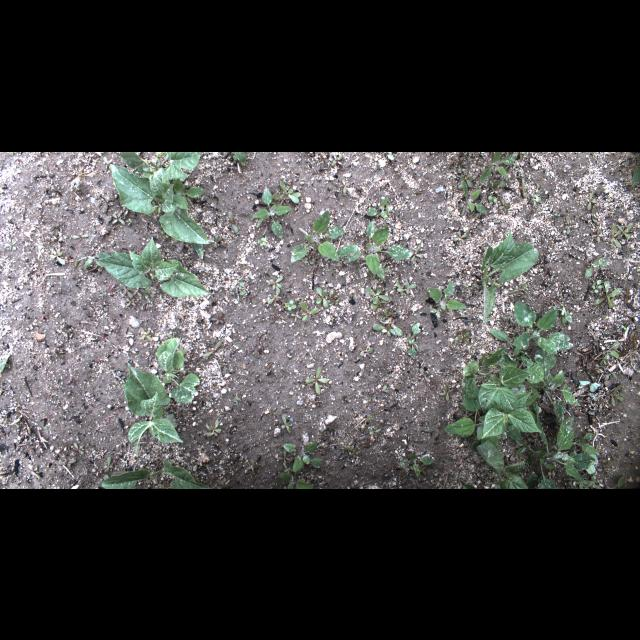crop: (109, 162, 209, 244), (506, 402, 600, 488), (462, 346, 542, 438), (98, 234, 212, 296), (465, 230, 539, 322), (125, 364, 183, 458), (102, 460, 212, 488), (156, 336, 200, 404), (476, 440, 528, 488), (120, 152, 200, 180), (235, 151, 248, 163), (463, 484, 477, 488)
weed: (444, 371, 508, 451), (334, 220, 412, 280), (522, 349, 580, 423), (512, 301, 574, 354), (290, 210, 346, 262), (254, 188, 292, 238), (366, 286, 402, 336), (488, 328, 532, 364), (426, 283, 466, 321), (283, 442, 323, 472), (478, 152, 516, 182), (398, 452, 434, 476), (462, 180, 486, 216), (593, 280, 623, 308), (173, 176, 204, 198), (304, 366, 328, 394), (582, 255, 610, 278), (274, 180, 300, 204), (366, 196, 394, 218), (280, 472, 314, 488), (599, 339, 619, 365), (315, 287, 339, 307), (569, 474, 601, 488), (603, 223, 621, 247), (408, 322, 420, 356), (299, 301, 319, 321), (229, 277, 247, 299), (508, 279, 530, 295), (202, 341, 222, 357), (486, 178, 506, 194), (610, 384, 624, 406), (49, 246, 66, 264), (556, 306, 572, 324), (396, 281, 416, 295), (205, 420, 221, 436), (280, 414, 292, 434), (0, 353, 12, 373), (585, 189, 597, 209), (604, 475, 624, 487), (276, 449, 290, 466), (456, 328, 470, 344), (457, 174, 473, 188), (618, 222, 632, 238), (228, 210, 238, 232), (270, 274, 282, 292), (193, 240, 203, 260), (58, 458, 76, 469), (439, 386, 453, 400), (454, 229, 468, 243), (590, 227, 604, 241), (120, 282, 132, 298), (267, 288, 279, 304), (532, 188, 542, 206), (565, 215, 575, 233), (498, 198, 509, 214), (73, 442, 85, 456), (112, 212, 126, 224), (102, 156, 114, 170), (209, 234, 223, 246), (140, 286, 154, 298), (140, 327, 152, 341), (346, 445, 360, 457), (360, 346, 374, 358), (103, 456, 113, 472), (232, 390, 242, 406), (631, 167, 639, 187), (520, 177, 528, 197), (98, 474, 109, 488), (284, 298, 296, 310), (290, 310, 302, 322), (332, 153, 344, 165), (340, 178, 350, 192), (420, 367, 430, 381), (411, 246, 419, 262), (159, 154, 169, 166), (129, 287, 141, 297), (361, 418, 373, 428), (592, 280, 602, 292), (511, 152, 525, 160), (71, 232, 89, 238), (125, 297, 135, 307), (4, 241, 16, 249), (532, 176, 540, 188), (488, 194, 498, 203), (592, 208, 598, 222), (258, 236, 266, 246), (115, 376, 125, 384), (379, 384, 389, 392), (606, 372, 618, 378), (369, 428, 381, 434), (284, 466, 292, 474), (296, 297, 306, 303), (608, 207, 614, 217), (596, 467, 608, 471), (621, 324, 627, 330), (458, 168, 467, 170), (554, 213, 560, 215)
